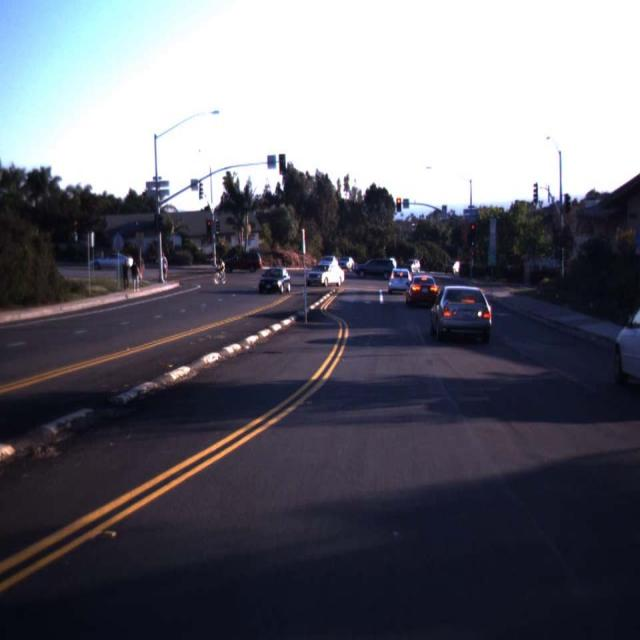kirmizi: (396, 198, 401, 212)
